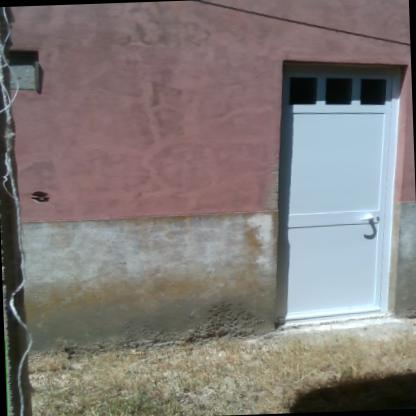closed: (265, 49, 415, 337)
